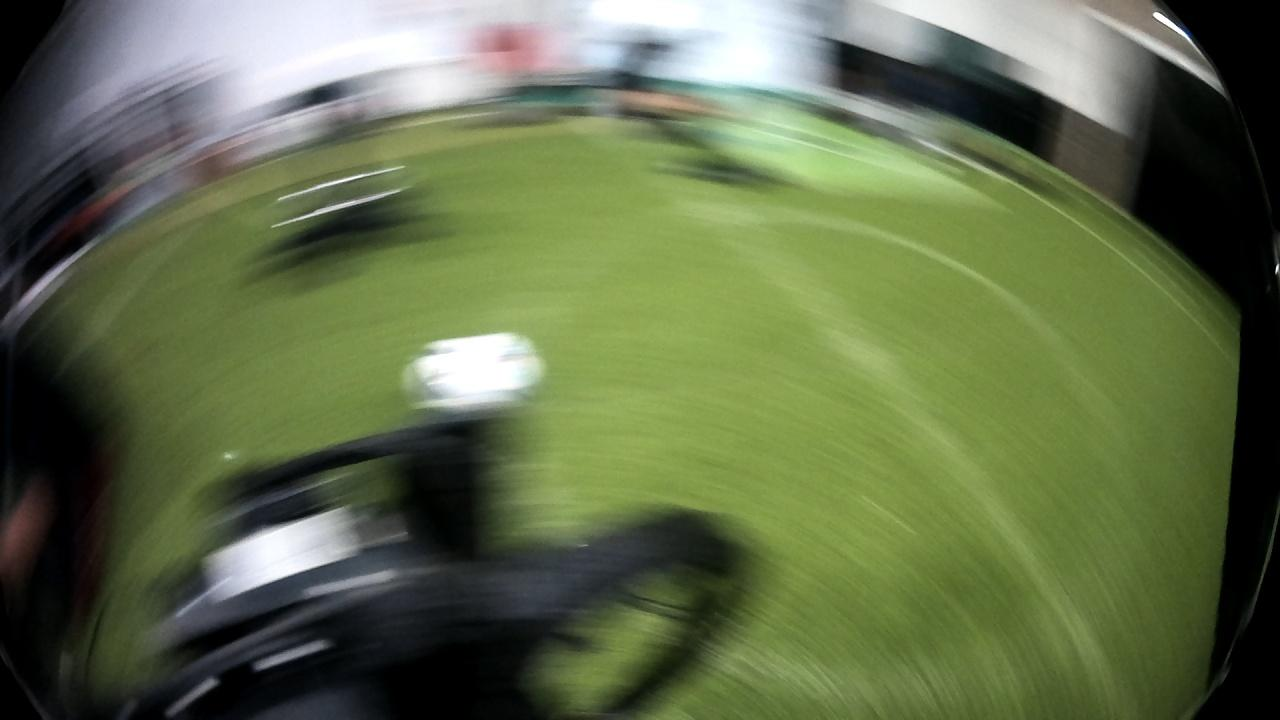ball: (407, 327, 544, 418)
